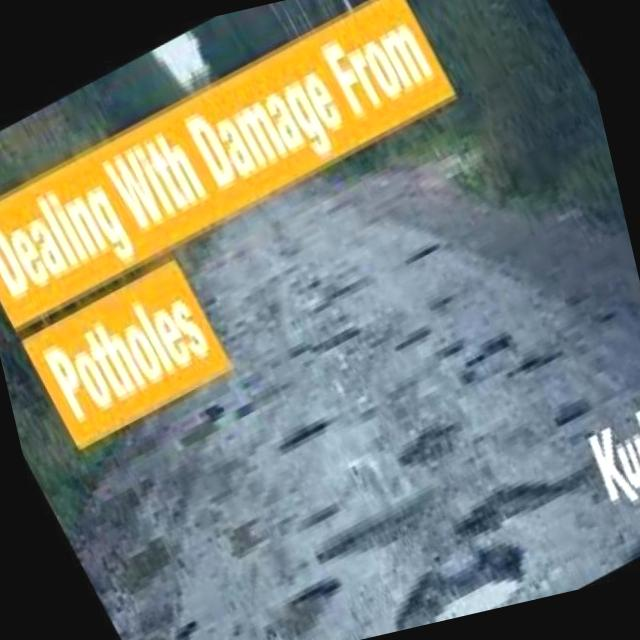Pathole: (394, 569, 512, 630), (469, 486, 578, 533)
